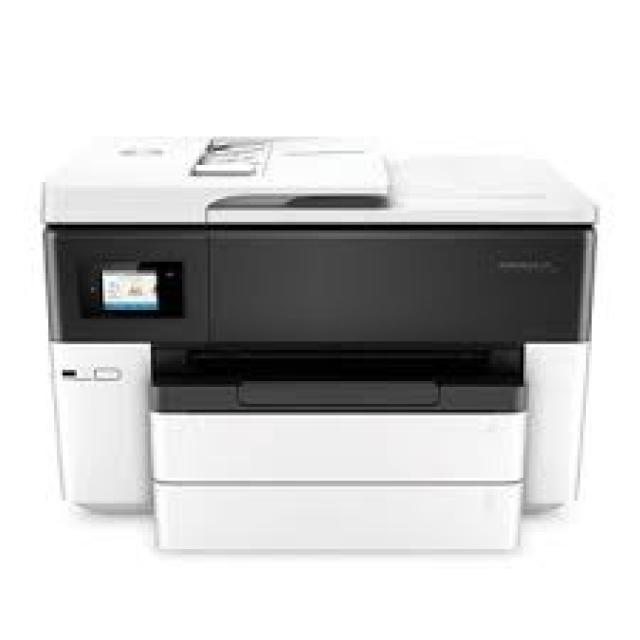printer: (37, 131, 600, 552)
